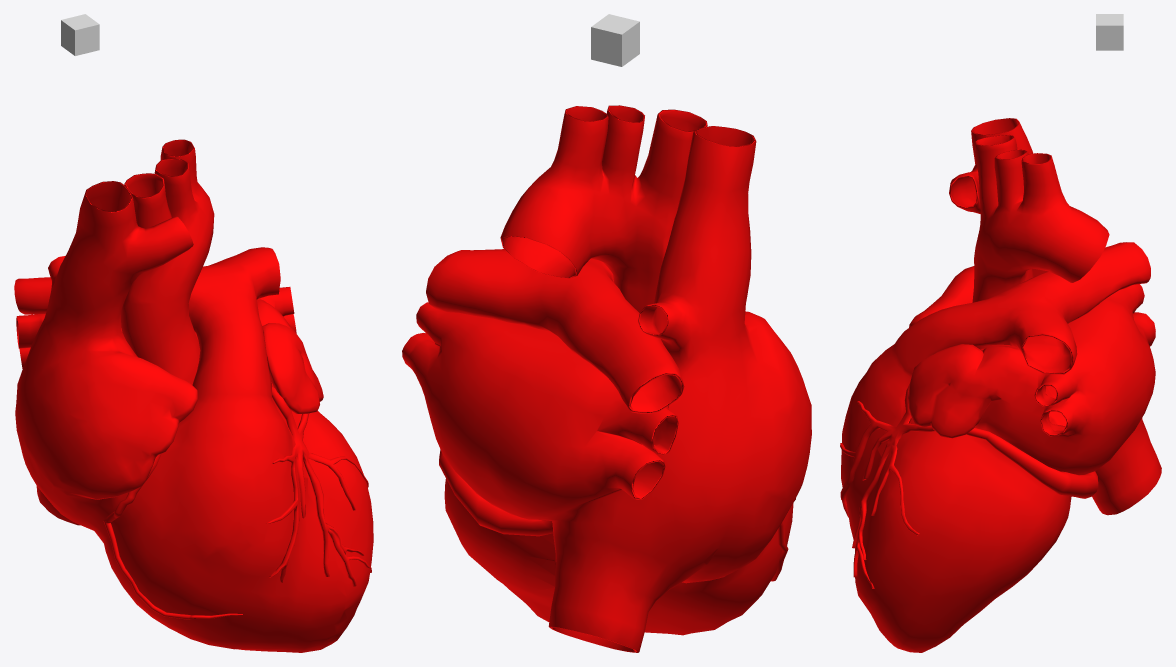
File: corazon.gltf
The picture shows the model from 3 angles, left to right: view 1: azimuth 30°, elevation 25°; view 2: azimuth 150°, elevation 25°; view 3: azimuth 270°, elevation 25°; orthographic projection. The views are drawn at different scales.
Visible parts, largest first — view 1: Mesh_101, Cube; view 2: Mesh_101, Cube; view 3: Mesh_101, Cube.
Boxes of the visible parts, left/top/right/bottom form: Mesh_101: left=14, top=139, right=373, bottom=652; Cube: left=61, top=14, right=99, bottom=55; Mesh_101: left=402, top=105, right=811, bottom=652; Cube: left=591, top=14, right=639, bottom=66; Mesh_101: left=840, top=118, right=1161, bottom=652; Cube: left=1096, top=14, right=1123, bottom=50.
Bounding box in the file's own units: 23.04 × 45.36 × 23.26.
